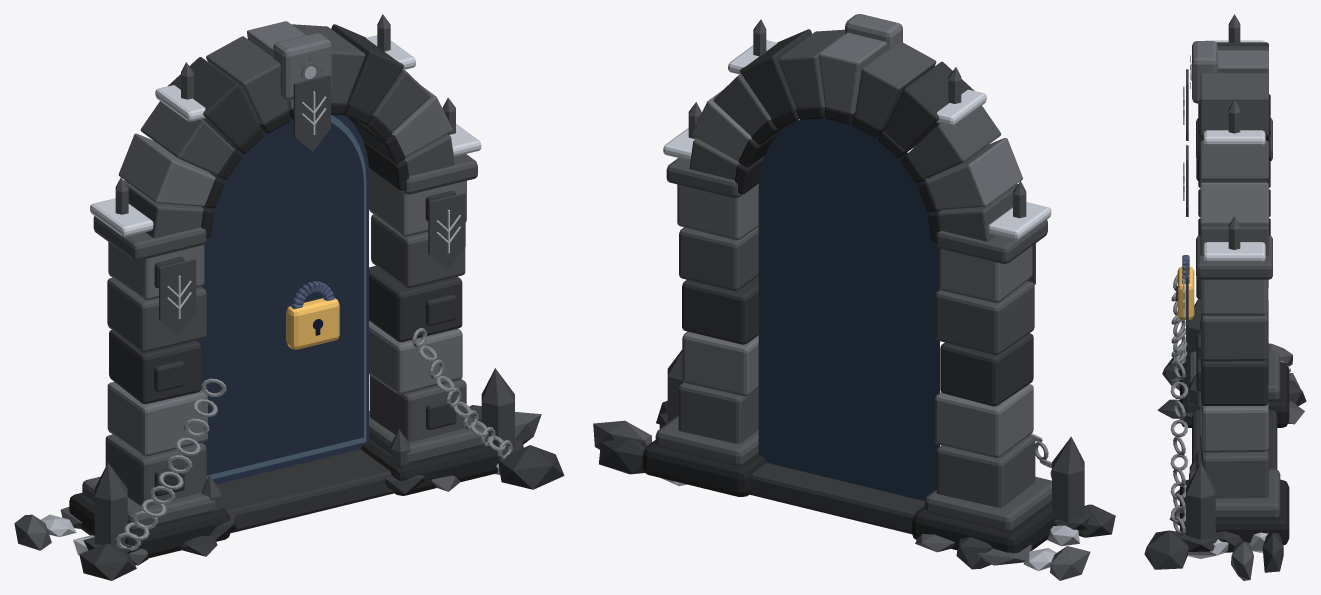
File: portal_nieve.glb
3 views of the same model, side by side, from view 1: azimuth 30°, elevation 25°; view 2: azimuth 150°, elevation 25°; view 3: azimuth 270°, elevation 25° (orthographic). The views are drawn at different scales.
Parts seen in each view (by area): view 1: Piedra gris, Interior apagado, Malla candado, Superficie apagada, Contorno apagado; view 2: Piedra gris, Superficie apagada; view 3: Piedra gris, Malla candado.
Part boxes in pixels (box(x1,y1,x2,y2)): Piedra gris: box(14, 14, 564, 580); Interior apagado: box(196, 117, 363, 475); Malla candado: box(286, 281, 339, 349); Superficie apagada: box(212, 115, 368, 484); Contorno apagado: box(206, 115, 366, 479); Piedra gris: box(593, 14, 1115, 580); Superficie apagada: box(758, 117, 939, 501); Piedra gris: box(1144, 14, 1306, 580); Malla candado: box(1176, 255, 1194, 319).
Size of the model in its own units: 8.79 by 8.04 by 2.73.
